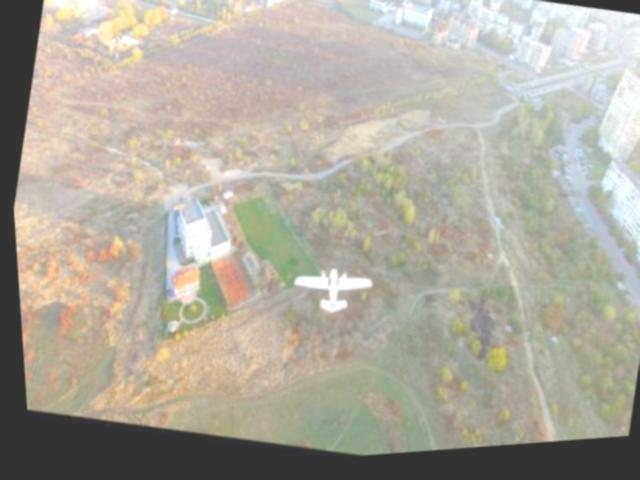uav: (276, 252, 379, 338)
